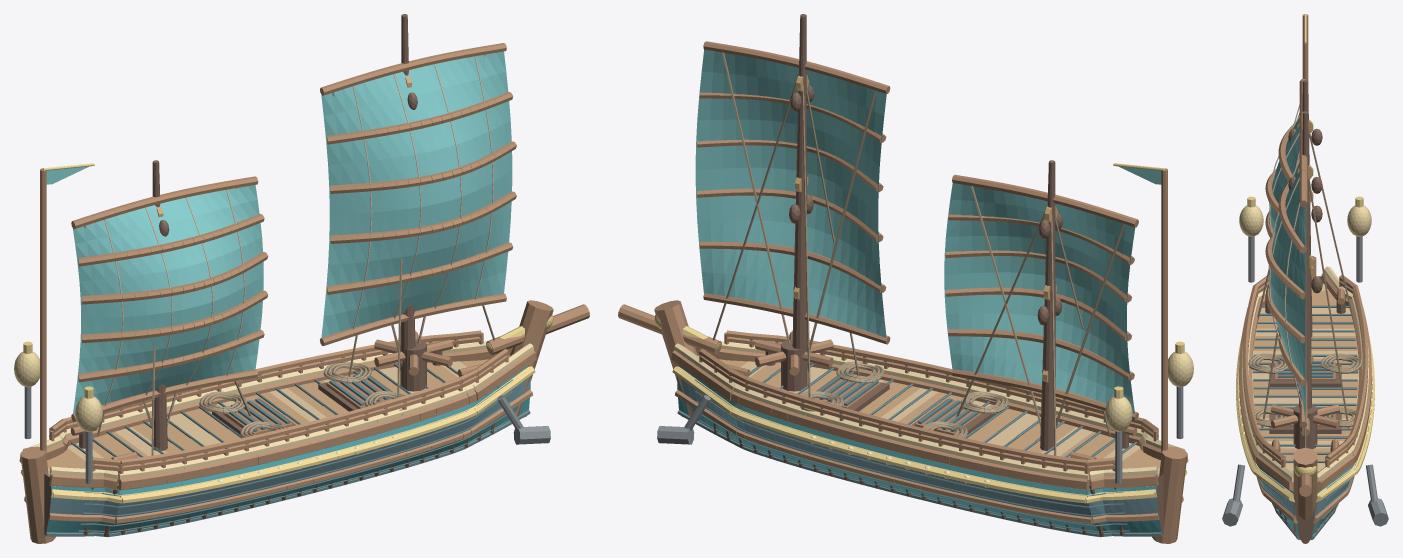
Rendered from mu_voyager-v5.glb.
The picture shows the model from 3 angles, left to right: view 1: azimuth 30°, elevation 25°; view 2: azimuth 150°, elevation 25°; view 3: azimuth 270°, elevation 25°; orthographic projection. The views are drawn at different scales.
Visible parts, largest first — view 1: mu_voyager_sails_turquoise, mu_voyager_rigging_hull2, mu_voyager_hull_hull2, mu_voyager_railings_hull2, mu_voyager_hull_ghostdark, mu_voyager_hull_pale, mu_voyager_hull_teal, mu_voyager_hull_blue, mu_voyager_hull_wood, mu_voyager_hull_gold, mu_voyager_rigging_sailshade, mu_voyager_fittings_hull2 (+10 smaller); view 2: mu_voyager_sails_turquoise, mu_voyager_hull_hull2, mu_voyager_rigging_hull2, mu_voyager_railings_hull2, mu_voyager_hull_ghostdark, mu_voyager_masts_darkwood, mu_voyager_hull_pale, mu_voyager_hull_teal, mu_voyager_hull_blue, mu_voyager_hull_wood, mu_voyager_hull_gold, mu_voyager_rigging_rope (+11 smaller); view 3: mu_voyager_hull_hull2, mu_voyager_sails_turquoise, mu_voyager_hull_wood, mu_voyager_rigging_hull2, mu_voyager_railings_hull2, mu_voyager_hull_ghostdark, mu_voyager_masts_darkwood, mu_voyager_hull_decklight, mu_voyager_fittings_iron, mu_voyager_hull_gold, mu_voyager_fittings_darkwood, mu_voyager_hull_pale (+14 smaller).
Part boxes in pixels (<box>): mu_voyager_sails_turquoise: <box>72,51,512,413</box>; mu_voyager_rigging_hull2: <box>71,43,516,422</box>; mu_voyager_hull_hull2: <box>19,300,589,543</box>; mu_voyager_railings_hull2: <box>49,330,508,483</box>; mu_voyager_hull_ghostdark: <box>45,363,530,537</box>; mu_voyager_hull_pale: <box>23,341,533,479</box>; mu_voyager_hull_teal: <box>46,366,529,533</box>; mu_voyager_hull_blue: <box>44,376,530,534</box>; mu_voyager_hull_wood: <box>47,359,488,470</box>; mu_voyager_hull_gold: <box>20,366,535,503</box>; mu_voyager_rigging_sailshade: <box>104,56,493,405</box>; mu_voyager_fittings_hull2: <box>70,331,481,459</box>; mu_voyager_sails_turquoise: <box>695,49,1135,413</box>; mu_voyager_hull_hull2: <box>618,300,1188,543</box>; mu_voyager_rigging_hull2: <box>697,41,1138,420</box>; mu_voyager_railings_hull2: <box>699,330,1158,483</box>; mu_voyager_hull_ghostdark: <box>677,363,1162,537</box>; mu_voyager_masts_darkwood: <box>789,14,1063,450</box>; mu_voyager_hull_pale: <box>674,341,1184,479</box>; mu_voyager_hull_teal: <box>678,366,1161,533</box>; mu_voyager_hull_blue: <box>677,376,1163,534</box>; mu_voyager_hull_wood: <box>719,359,1160,470</box>; mu_voyager_hull_gold: <box>672,366,1187,503</box>; mu_voyager_rigging_rope: <box>721,52,1124,428</box>; mu_voyager_hull_hull2: <box>1239,255,1371,532</box>; mu_voyager_sails_turquoise: <box>1269,113,1305,425</box>; mu_voyager_hull_wood: <box>1252,291,1358,472</box>; mu_voyager_rigging_hull2: <box>1265,79,1307,427</box>; mu_voyager_railings_hull2: <box>1242,275,1368,467</box>; mu_voyager_hull_ghostdark: <box>1253,305,1357,539</box>; mu_voyager_masts_darkwood: <box>1288,80,1322,409</box>; mu_voyager_hull_decklight: <box>1252,283,1358,470</box>; mu_voyager_fittings_iron: <box>1222,236,1388,526</box>; mu_voyager_hull_gold: <box>1236,337,1374,502</box>; mu_voyager_fittings_darkwood: <box>1265,296,1345,451</box>; mu_voyager_hull_pale: <box>1242,266,1368,482</box>.
Size of the model in its own units: 33.41 by 24.83 by 9.68.
